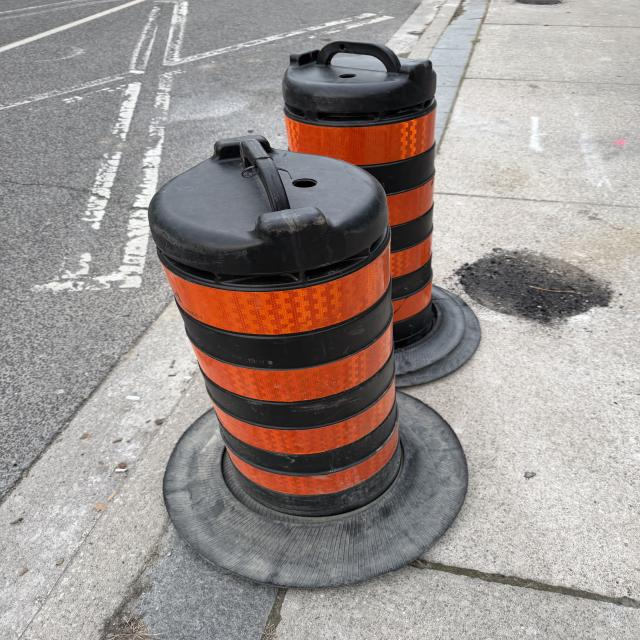Teraffic Barrel: (149, 136, 466, 587), (283, 40, 480, 386)
